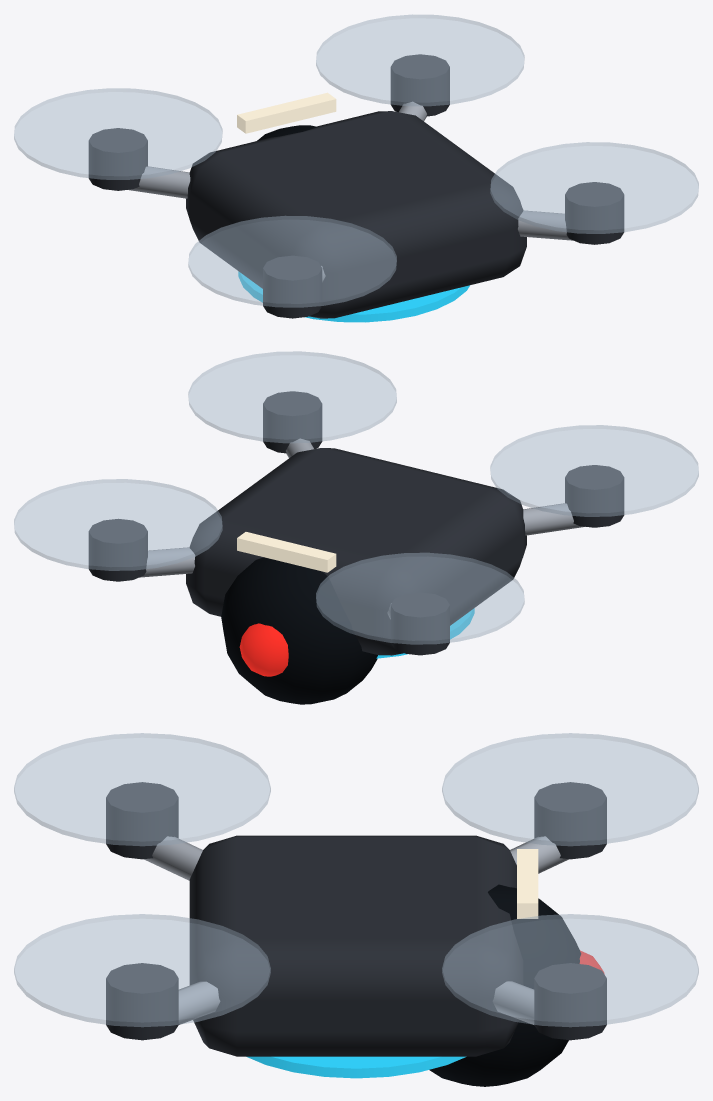
Rendered from obstacle_drone.glb.
3 renders of one model, top to bottom at view 1: azimuth 30°, elevation 25°; view 2: azimuth 150°, elevation 25°; view 3: azimuth 270°, elevation 25°, orthographic. The views are drawn at different scales.
Visible parts, largest first — view 1: Drone; view 2: Drone; view 3: Drone.
Boxes of the visible parts, bbox=[...] form: Drone: bbox=[14, 14, 698, 322]; Drone: bbox=[14, 351, 698, 704]; Drone: bbox=[14, 733, 698, 1086].
Size of the model in its own units: 1.6 by 0.52 by 1.6.
